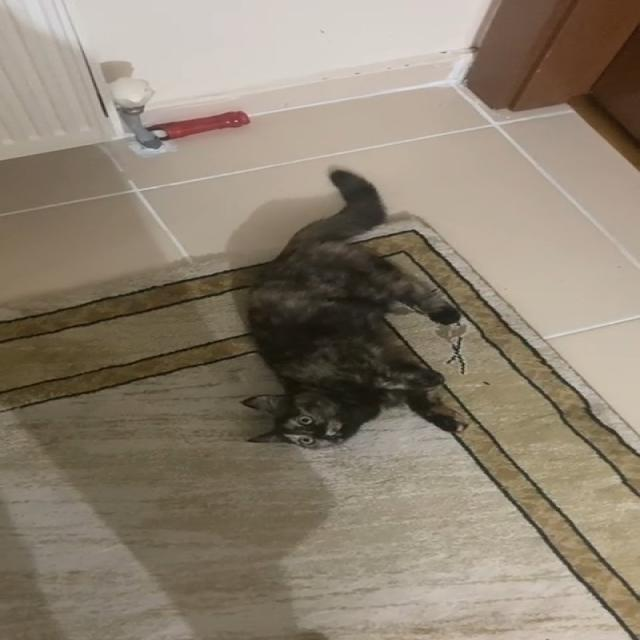authorized: (238, 168, 470, 449)
